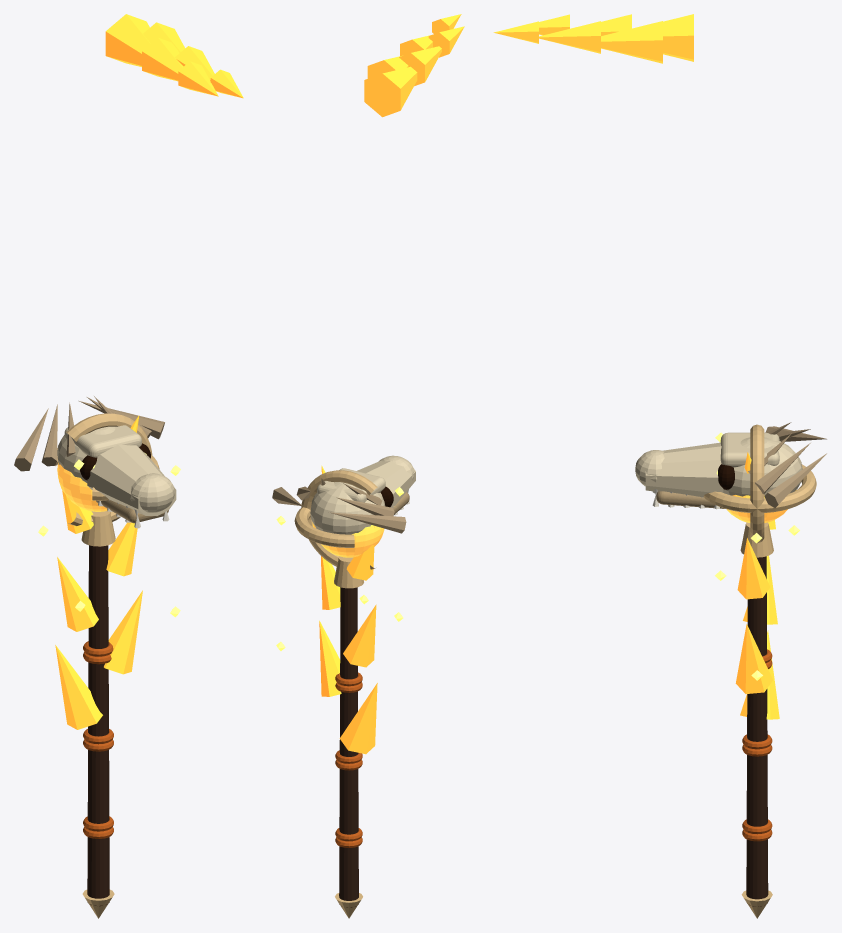
Rendered from drstaff.glb.
The picture shows the model from 3 angles, left to right: view 1: azimuth 30°, elevation 25°; view 2: azimuth 150°, elevation 25°; view 3: azimuth 270°, elevation 25°; orthographic projection. The views are drawn at different scales.
Parts seen in each view (by area): view 1: flame, bone, rod, fitting, horn, wrap, orb, boneDark; view 2: flame, rod, bone, fitting, horn, wrap, orb; view 3: flame, bone, rod, fitting, horn, wrap.
Part boxes in pixels (box(x1,y1,x2,y2)): flame: box(55, 14, 243, 729); bone: box(57, 425, 176, 515); rod: box(87, 545, 109, 906); fitting: box(55, 413, 159, 918); horn: box(14, 396, 164, 471); wrap: box(83, 641, 113, 838); orb: box(57, 462, 107, 511); boneDark: box(96, 500, 168, 523); flame: box(319, 14, 464, 754); rod: box(339, 587, 358, 907); bone: box(310, 455, 415, 534); fitting: box(294, 470, 396, 918); horn: box(272, 478, 406, 533); wrap: box(335, 672, 362, 847); orb: box(312, 522, 384, 557); flame: box(493, 14, 779, 719); bone: box(635, 432, 802, 497); rod: box(746, 556, 768, 906); fitting: box(704, 424, 816, 918); horn: box(748, 422, 826, 507); wrap: box(742, 649, 772, 841).
Size of the model in its own units: 1.31 by 7.45 by 2.5.
